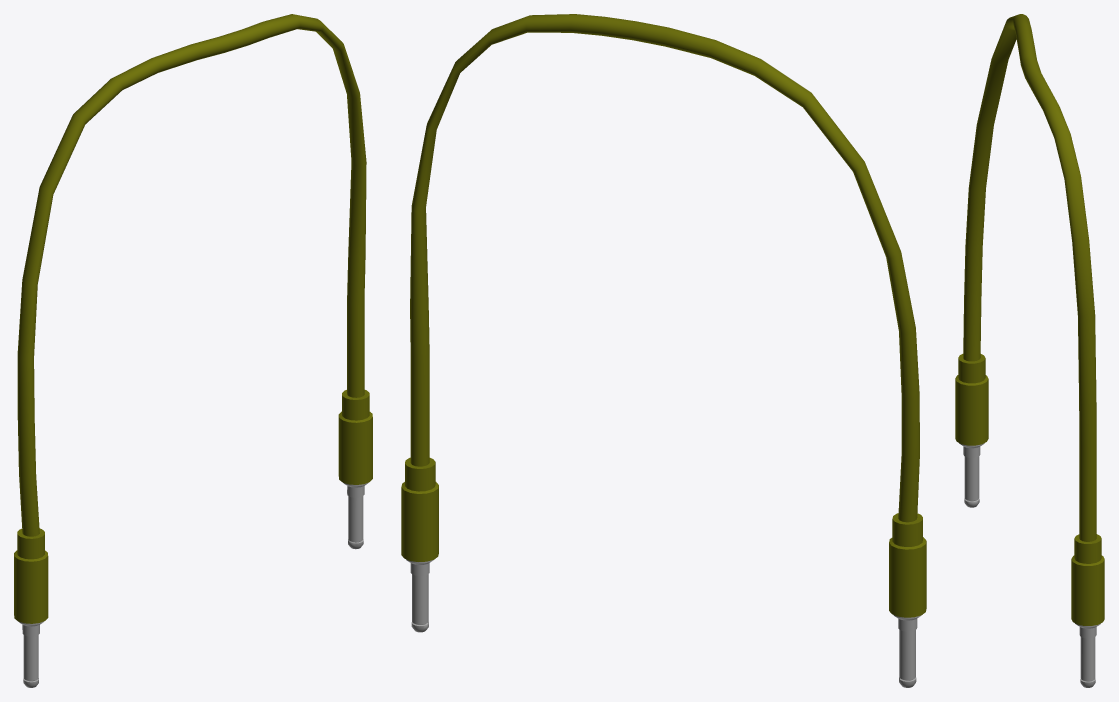
File: Yellow.gltf
3 renders of one model, left to right at view 1: azimuth 30°, elevation 25°; view 2: azimuth 150°, elevation 25°; view 3: azimuth 270°, elevation 25°, orthographic. The views are drawn at different scales.
Parts seen in each view (by area): view 1: Wire_09; view 2: Wire_09; view 3: Wire_09.
Boxes of the visible parts, box(x1,y1,x2,y2) form: Wire_09: box(14, 14, 372, 687); Wire_09: box(401, 14, 926, 687); Wire_09: box(955, 14, 1104, 687).
Bounding box in the file's own units: 0.5487 × 0.7279 × 0.1777.
2 materials, 1 textured.
